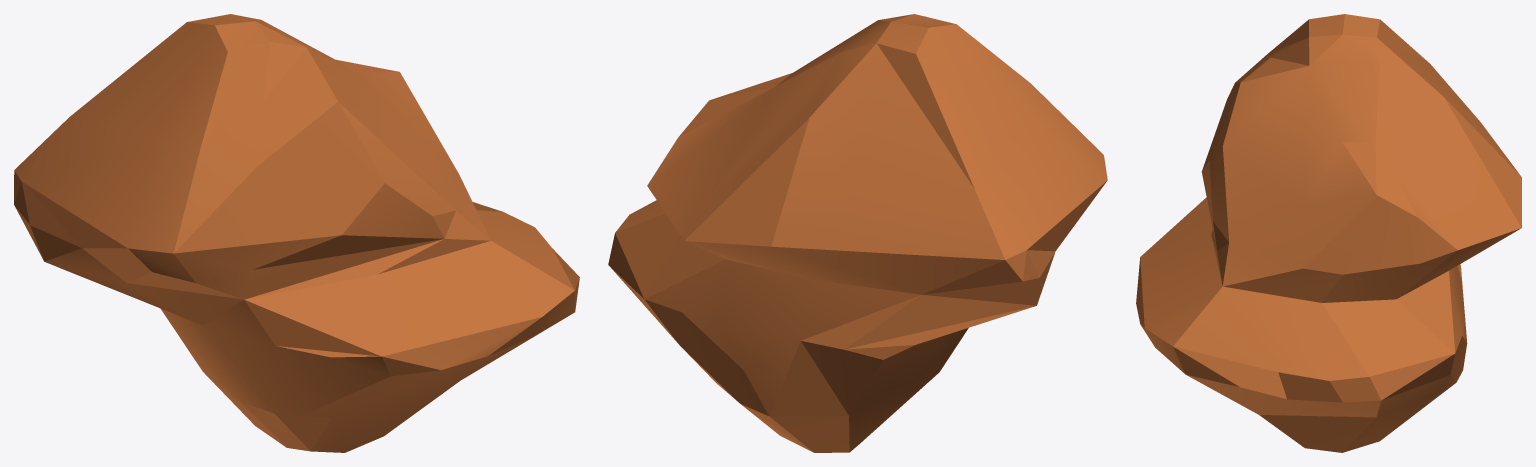
File: M_Boulder.fbx
The picture shows the model from 3 angles, left to right: view 1: azimuth 30°, elevation 25°; view 2: azimuth 150°, elevation 25°; view 3: azimuth 270°, elevation 25°; orthographic projection. The views are drawn at different scales.
Parts seen in each view (by area): view 1: boulder; view 2: boulder; view 3: boulder.
Part boxes in pixels (<box>): boulder: <box>14,14,579,452</box>; boulder: <box>608,14,1107,452</box>; boulder: <box>1136,14,1521,452</box>.
Size of the model in its own units: 19.99 by 18.69 by 16.77.
